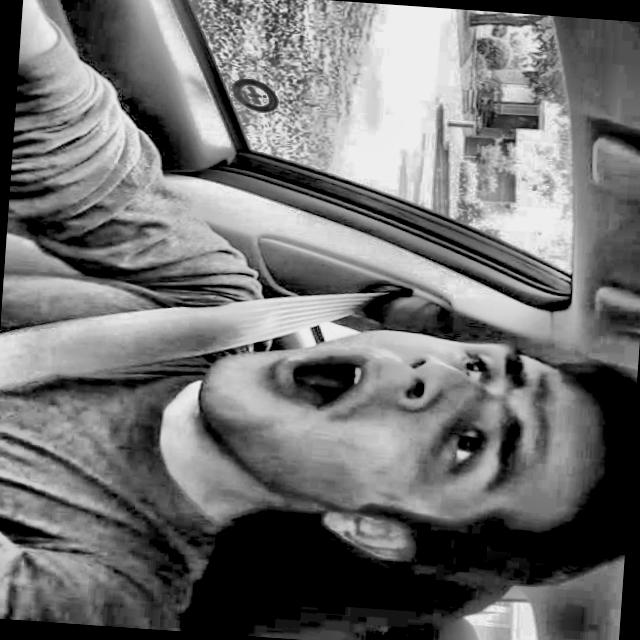open_eyes: (438, 411, 491, 487), (439, 332, 499, 398)
open_mouth: (258, 329, 383, 425)
